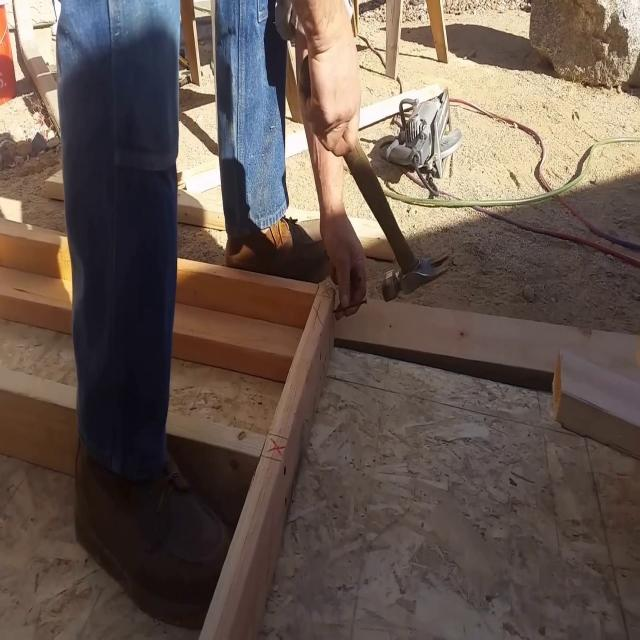hammer: (298, 54, 450, 302)
